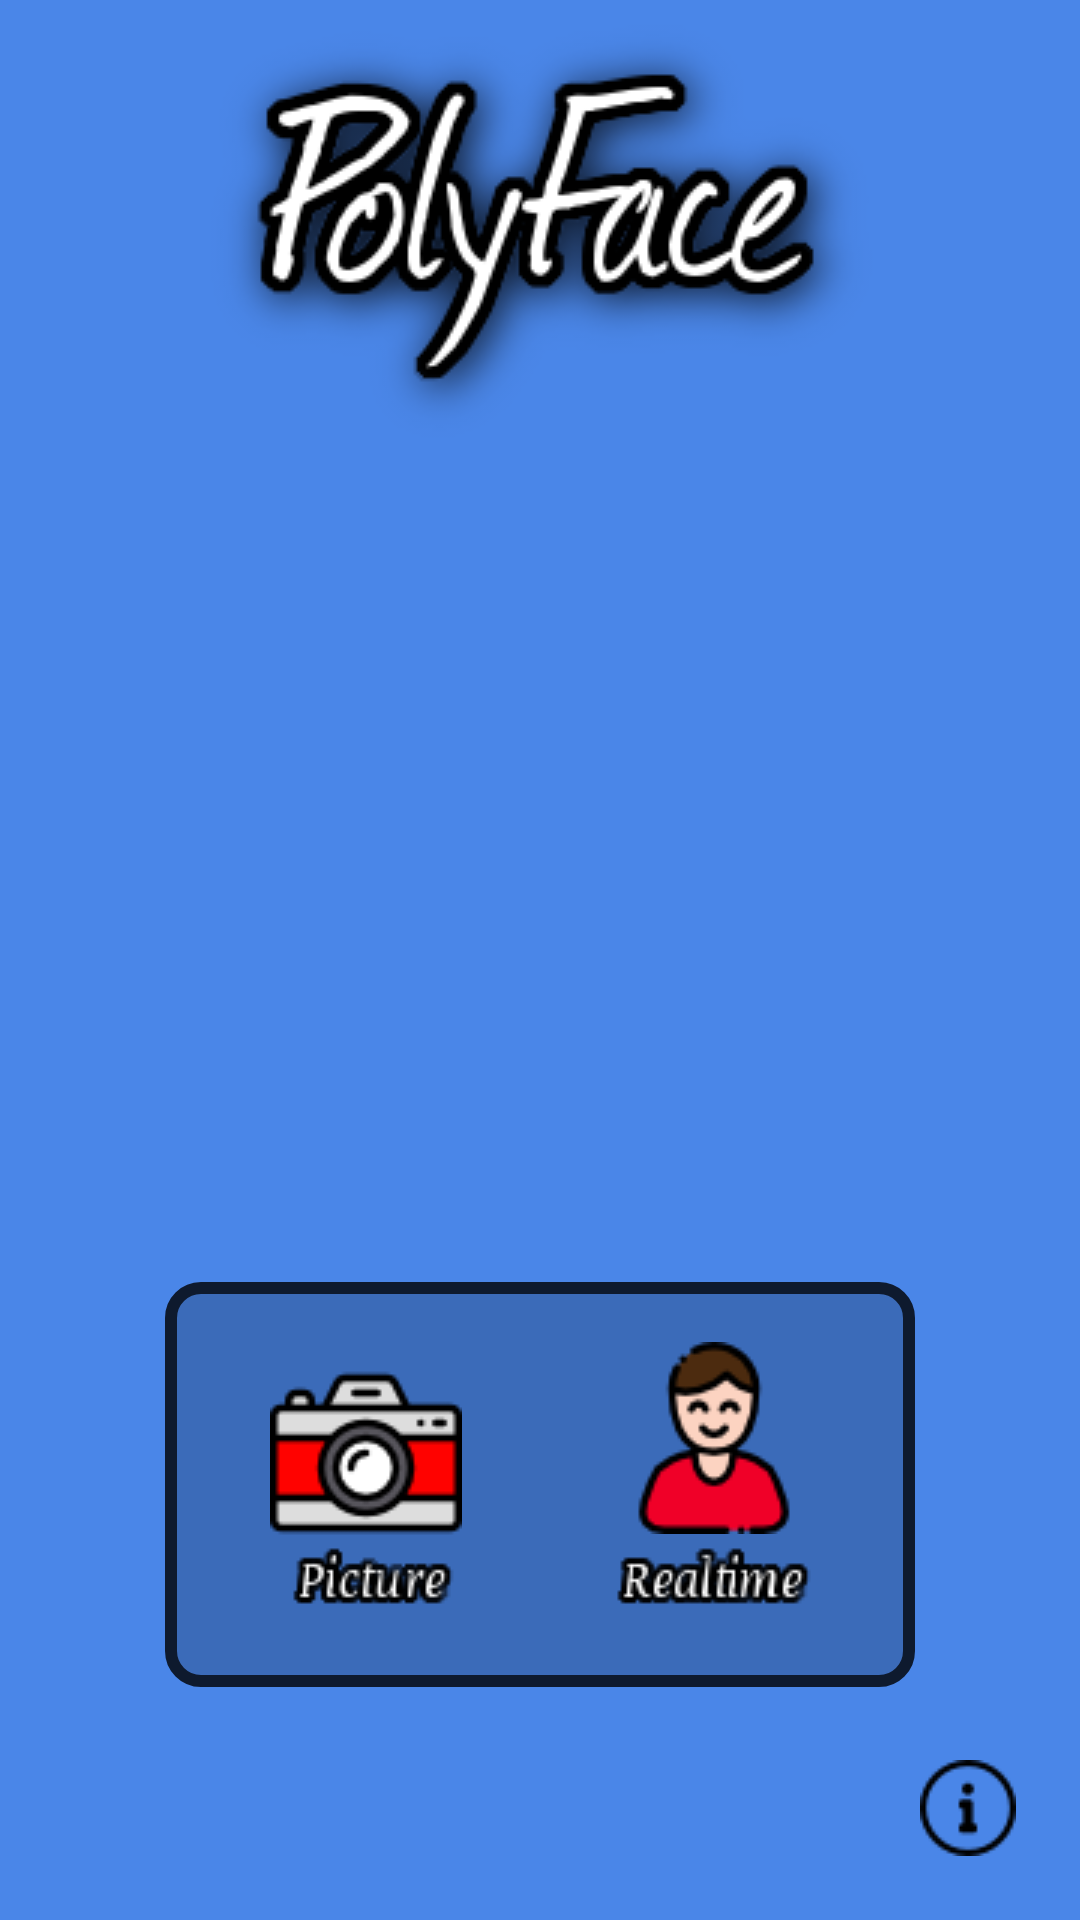

Point at icon controls on the screen. Image size 1080x1920, points as (x,y).
activity about: (968,1808)
activity camera: (366,1453)
activity portrait: (714,1438)
